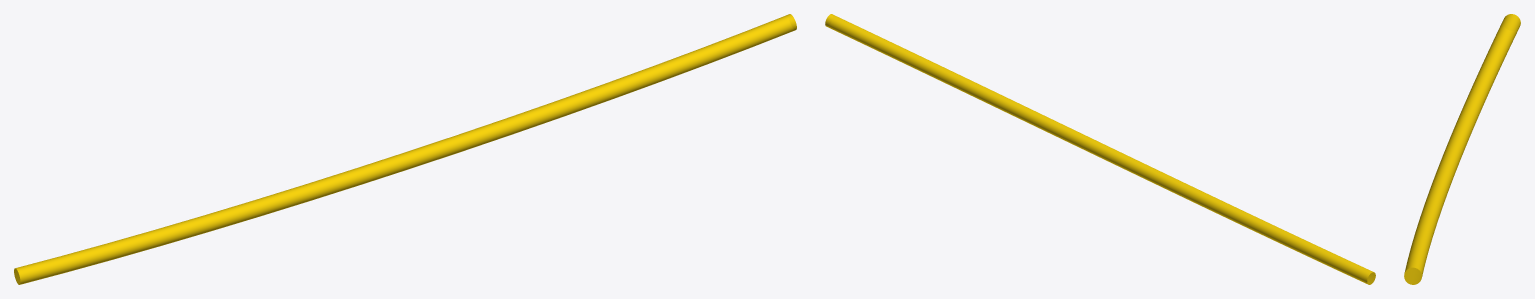
File: Event_420107950_track_75.fbx
3 renders of one model, left to right at view 1: azimuth 30°, elevation 25°; view 2: azimuth 150°, elevation 25°; view 3: azimuth 270°, elevation 25°, orthographic. The views are drawn at different scales.
Parts seen in each view (by area): view 1: Model; view 2: Model; view 3: Model.
Boxes of the visible parts, x1,y1,x2,y2 form: Model: (14,14,796,284); Model: (825,14,1375,284); Model: (1404,14,1520,284).
Bounding box in the file's own units: 1.95 × 0.3246 × 0.2594.
